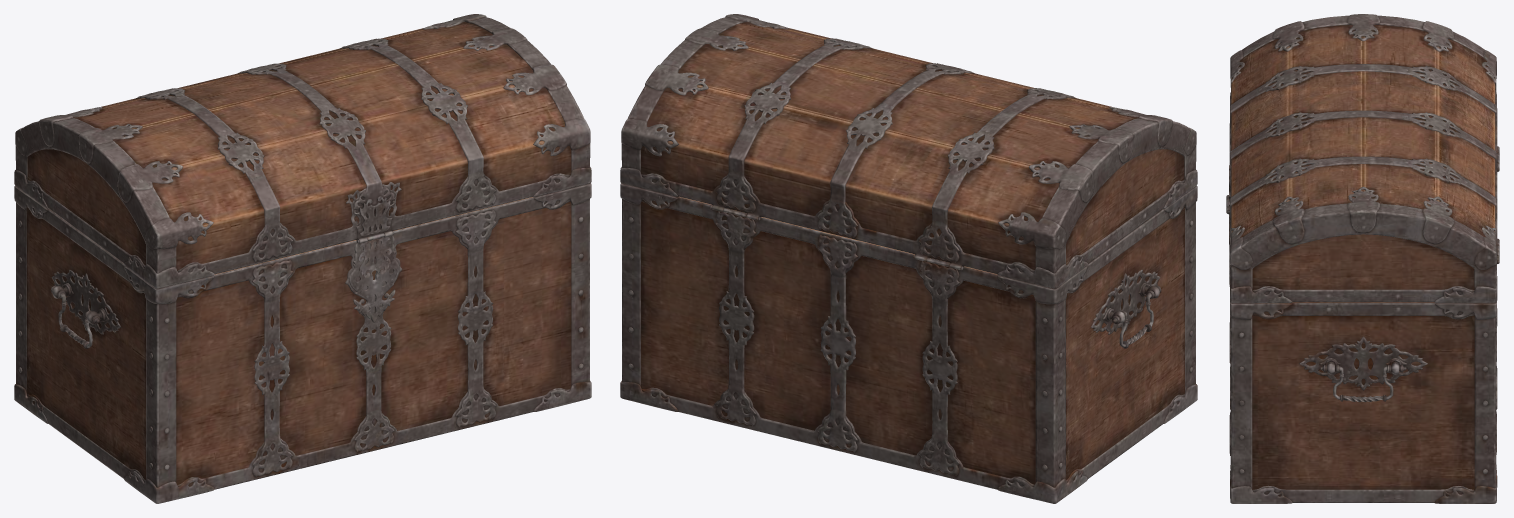
The model's file is treasure_chest_1k.glb.
The picture shows the model from 3 angles, left to right: view 1: azimuth 30°, elevation 25°; view 2: azimuth 150°, elevation 25°; view 3: azimuth 270°, elevation 25°; orthographic projection. The views are drawn at different scales.
Visible parts, largest first — view 1: treasure_chest_bottom, treasure_chest_lid, treasure_chest_lock; view 2: treasure_chest_bottom, treasure_chest_lid; view 3: treasure_chest_lid, treasure_chest_bottom, treasure_chest_handle_right.
Boxes of the visible parts, x1=… form: treasure_chest_bottom: x1=14, y1=183, x2=591, y2=503; treasure_chest_lid: x1=14, y1=14, x2=591, y2=288; treasure_chest_lock: x1=349, y1=233, x2=399, y2=322; treasure_chest_bottom: x1=620, y1=183, x2=1197, y2=503; treasure_chest_lid: x1=620, y1=14, x2=1197, y2=288; treasure_chest_lid: x1=1226, y1=14, x2=1499, y2=303; treasure_chest_bottom: x1=1229, y1=152, x2=1499, y2=503; treasure_chest_handle_right: x1=1320, y1=365, x2=1406, y2=402.
Size of the model in its own units: 0.959 by 0.619 by 0.5229.
1 material, 1 textured.
